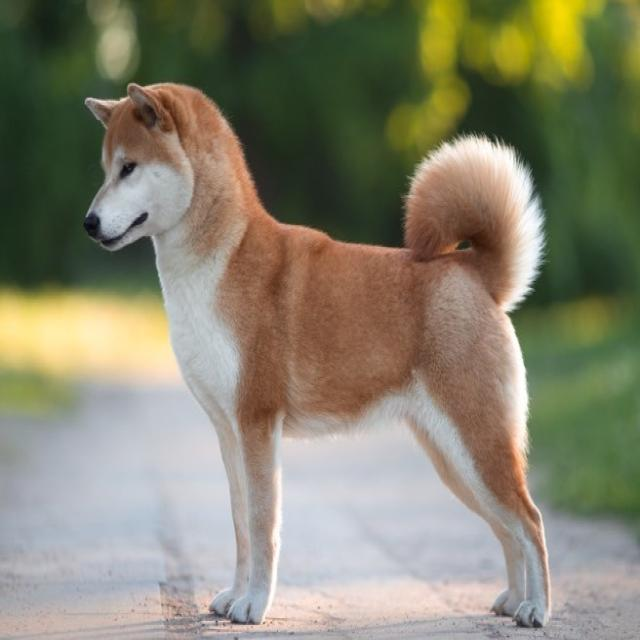adult_dog: (83, 80, 553, 629)
